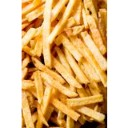frenchfries: (22, 1, 109, 126)
